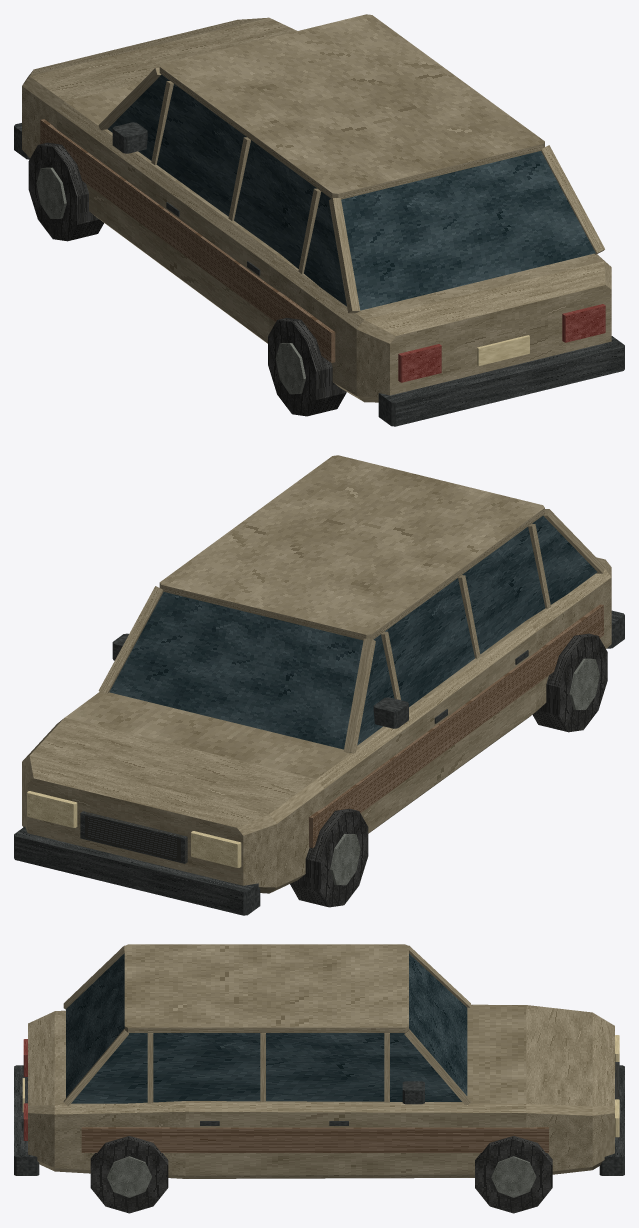
Rendered from wagon.glb.
The picture shows the model from 3 angles, top to bottom: view 1: azimuth 30°, elevation 25°; view 2: azimuth 150°, elevation 25°; view 3: azimuth 270°, elevation 25°; orthographic projection. The views are drawn at different scales.
Visible parts, largest first — view 1: Body; view 2: Body; view 3: Body.
Part boxes in pixels (bbox=[...]): Body: bbox=[14, 14, 624, 426]; Body: bbox=[14, 455, 624, 915]; Body: bbox=[14, 944, 624, 1213].
Size of the model in its own units: 1.95 by 1.34 by 4.34.
Materials: 1 (1 with a texture image).
